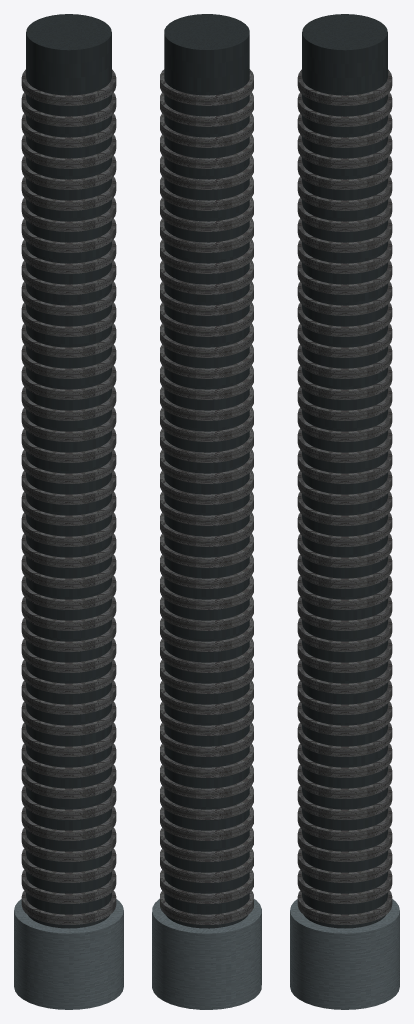
The model's file is exhaust-drop.glb.
The picture shows the model from 3 angles, left to right: view 1: azimuth 90°, elevation 25°; view 2: azimuth 150°, elevation 25°; view 3: azimuth 270°, elevation 25°; orthographic projection.
Parts seen in each view (by area): view 1: rib (×40), hose, nozzle; view 2: rib (×40), hose, nozzle; view 3: rib (×40), hose, nozzle.
Part boxes in pixels (x1,y1,x2,y2): rib (×40): [21, 69, 116, 924]; hose: [26, 14, 111, 928]; nozzle: [14, 899, 123, 1009]; rib (×40): [160, 69, 253, 924]; hose: [164, 14, 249, 928]; nozzle: [152, 898, 261, 1009]; rib (×40): [297, 69, 392, 924]; hose: [302, 14, 387, 928]; nozzle: [290, 899, 399, 1009].
Bounding box in the file's own units: 0.24 × 2.3 × 0.24.
Materials: 3 (3 with a texture image).
